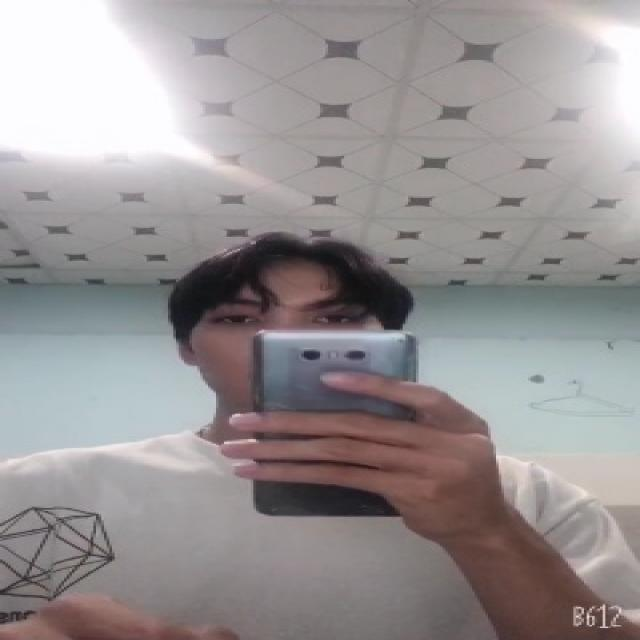Phone: (255, 326, 418, 520)
